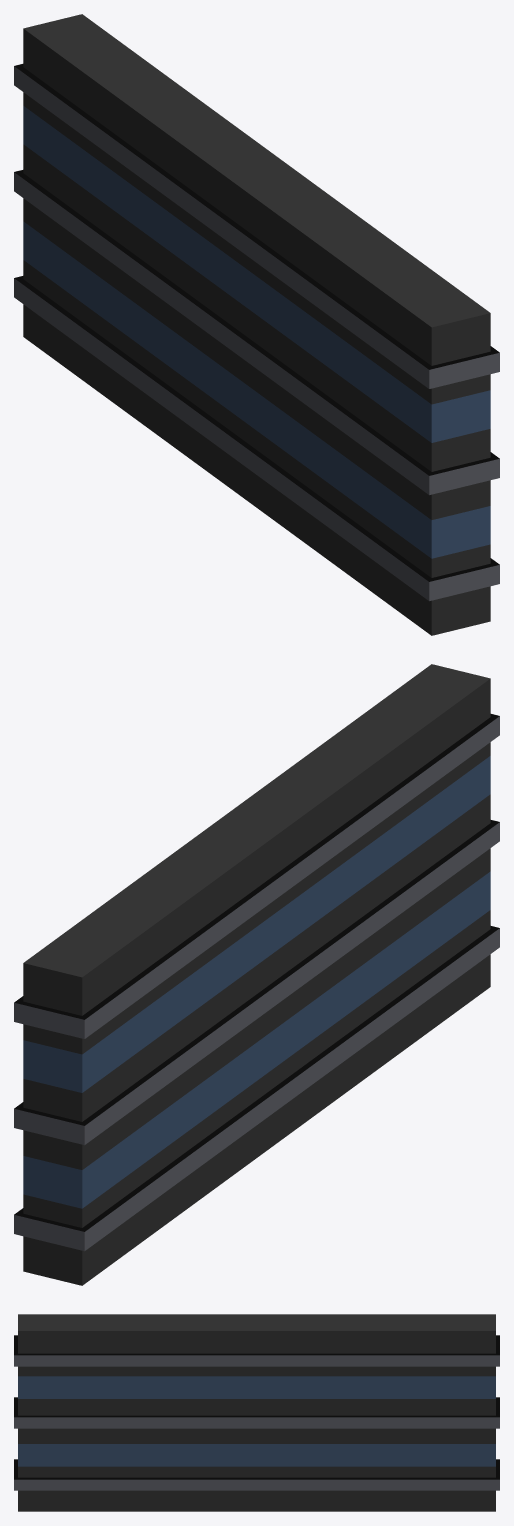
Rendered from Divider2.fbx.
3 renders of one model, top to bottom at view 1: azimuth 30°, elevation 25°; view 2: azimuth 150°, elevation 25°; view 3: azimuth 270°, elevation 25°, orthographic. The views are drawn at different scales.
Parts seen in each view (by area): view 1: Divider2; view 2: Divider2; view 3: Divider2.
Boxes of the visible parts, x1,y1,x2,y2 form: Divider2: (14,14,499,635); Divider2: (14,664,499,1285); Divider2: (14,1314,499,1511).
Size of the model in its own units: 60 by 250 by 610.
